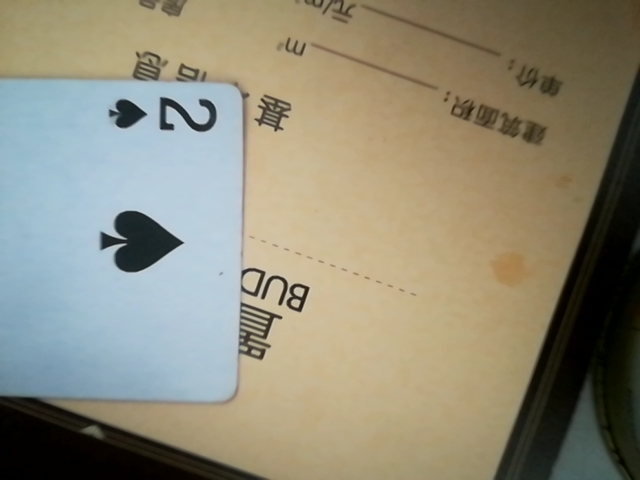ht 2: (0, 69, 243, 413)
